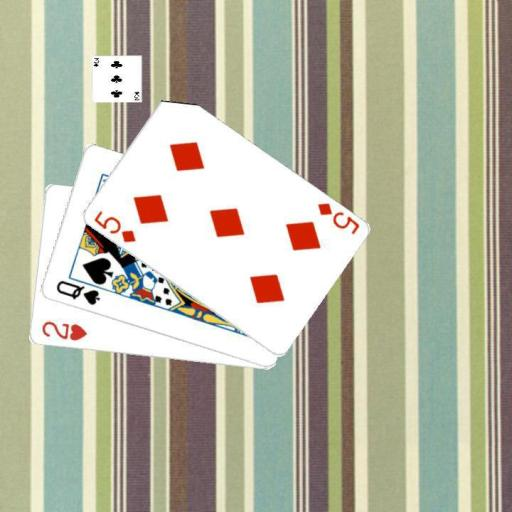card-corner: (314, 199, 360, 236), (90, 208, 137, 244), (53, 278, 101, 306), (38, 318, 88, 343)
